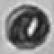correct: (3, 3, 51, 52)
